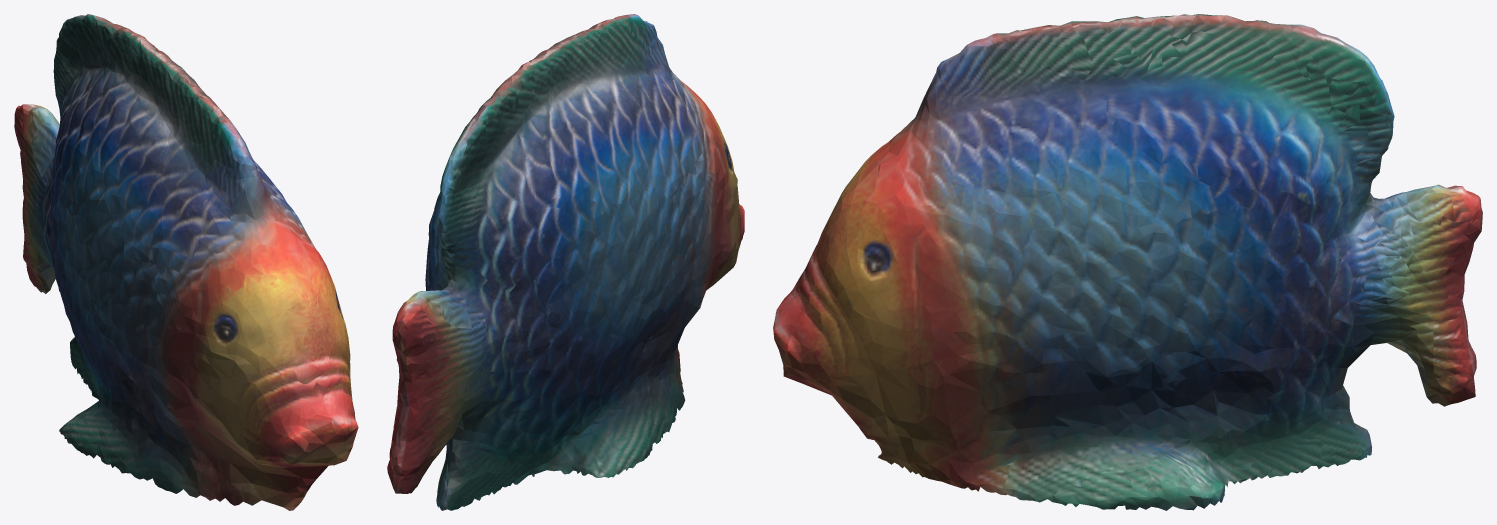
The model's file is FishTest.old.gltf.
3 views of the same model, side by side, from view 1: azimuth 30°, elevation 25°; view 2: azimuth 150°, elevation 25°; view 3: azimuth 270°, elevation 25° (orthographic). The views are drawn at different scales.
Parts seen in each view (by area): view 1: texturedMesh; view 2: texturedMesh; view 3: texturedMesh.
Boxes of the visible parts, x1,y1,x2,y2 form: texturedMesh: (14, 14, 358, 510); texturedMesh: (387, 14, 744, 510); texturedMesh: (773, 14, 1482, 510).
Size of the model in its own units: 0.1168 by 0.216 by 0.3187.
1 material, 1 textured.
